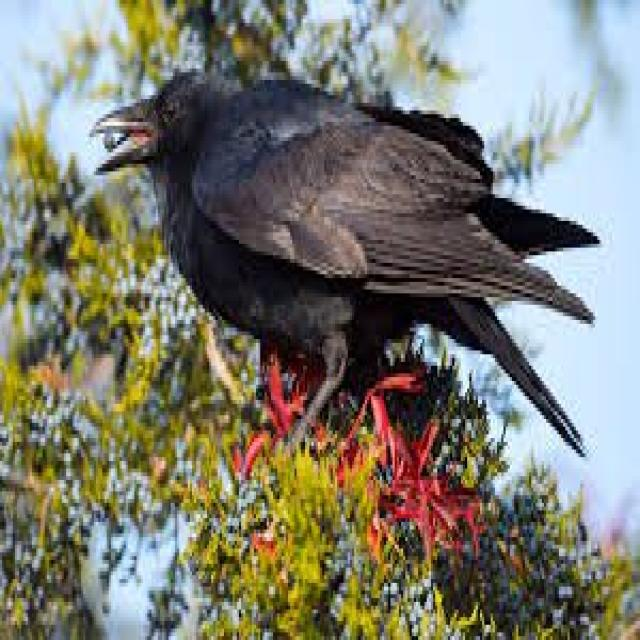crow: (102, 92, 330, 336)
